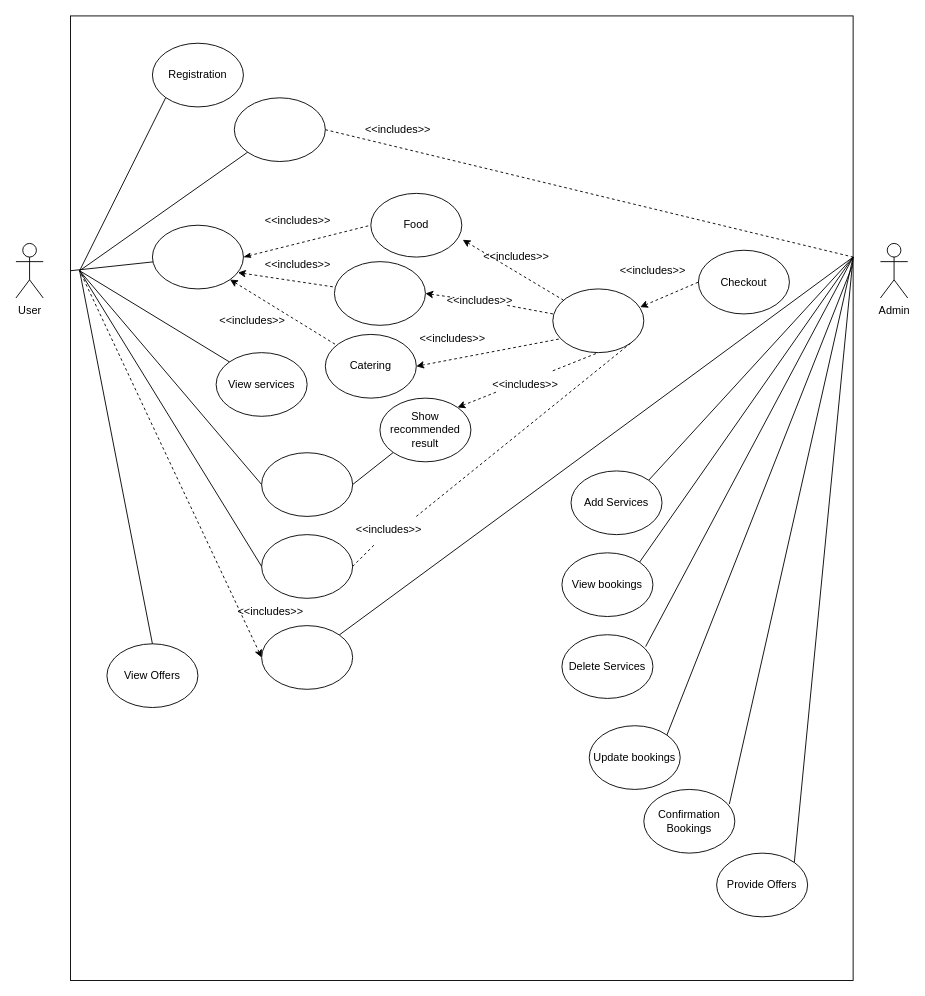
The diagram is 925 pixels wide and 996 high, and some of its shapes have lost their labels. The centre of each missing label's shape, as x and y in pixels:
"Add to cart" goes at [598,320].
"Decor" goes at [379,293].
"Dynamic Search" goes at [307,484].
"Login" goes at [279,129].
"Reviews" goes at [307,657].
"Search by categories" goes at [197,256].
"View Menu" goes at [307,566].
